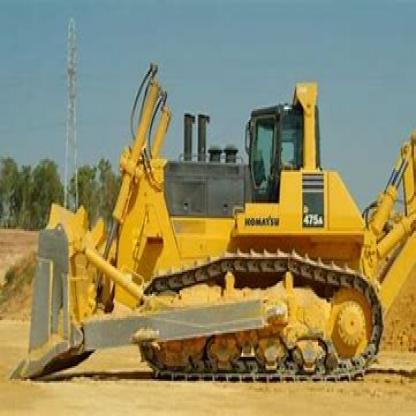bull_dozer/loader/grader: (17, 59, 415, 405)
